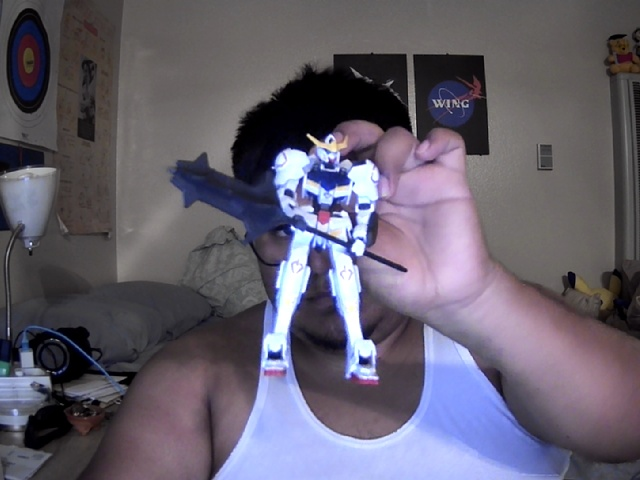Barbatos: (169, 132, 409, 389)
